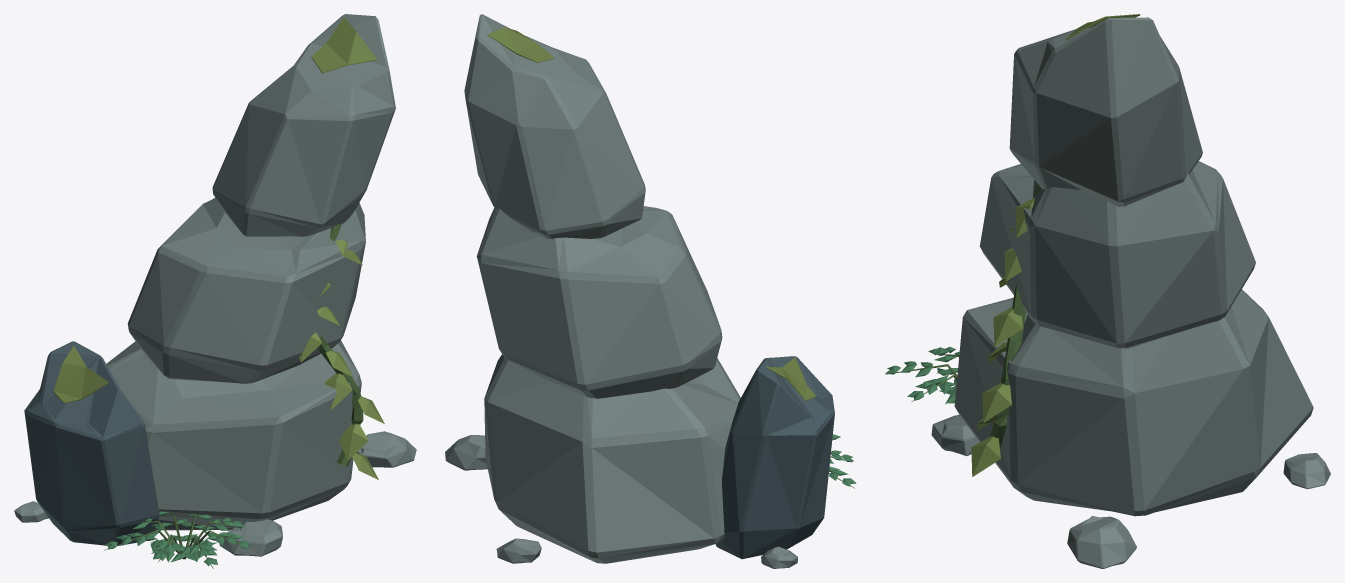
File: rock_spire.glb
3 views of the same model, side by side, from view 1: azimuth 30°, elevation 25°; view 2: azimuth 150°, elevation 25°; view 3: azimuth 270°, elevation 25° (orthographic). The views are drawn at different scales.
Visible parts, largest first — view 1: rock_spire; view 2: rock_spire; view 3: rock_spire.
Part boxes in pixels (x1,y1,x2,y2): rock_spire: (14, 14, 416, 568); rock_spire: (445, 14, 856, 568); rock_spire: (885, 14, 1330, 568).
Size of the model in its own units: 2.84 by 3.18 by 2.42.
